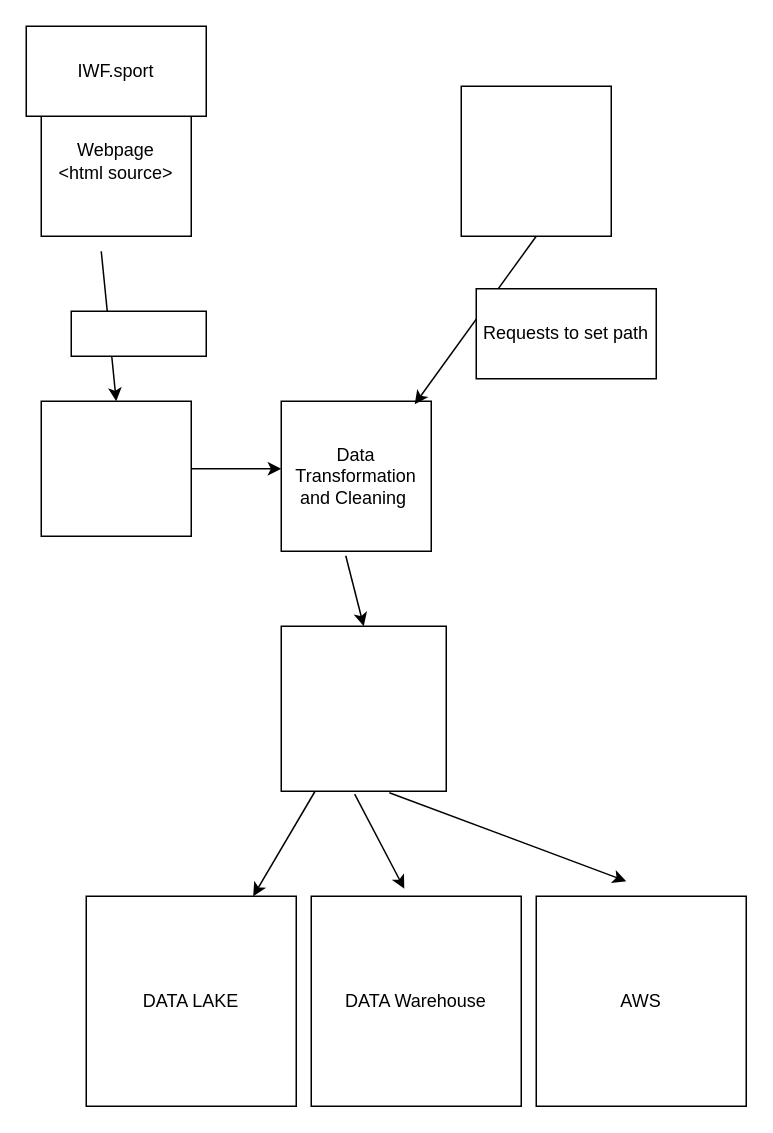
This 773x1133 diagram has some shape labels left out. Each missing label, with the centre of its shape:
BeautifulSoup Data Extraction: (115,468)
JSON File: (363,708)
Kaggle <CSV source>: (535,160)
Requests and HTML Parser: (138,333)
